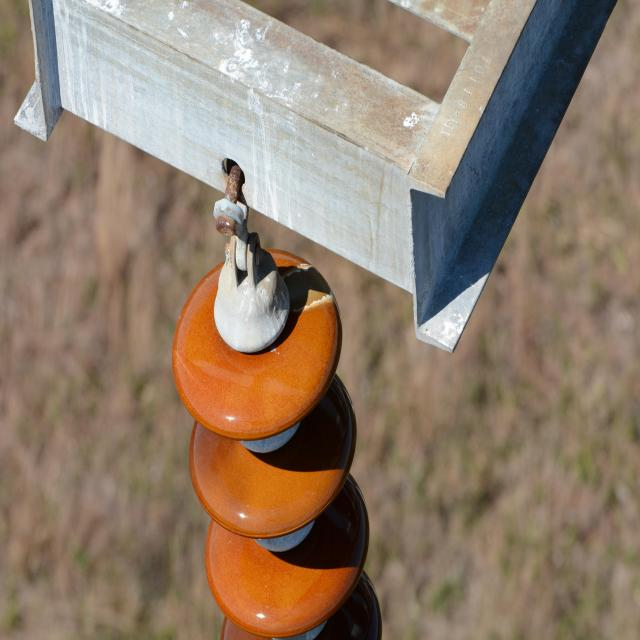insulator: (172, 246, 383, 640)
